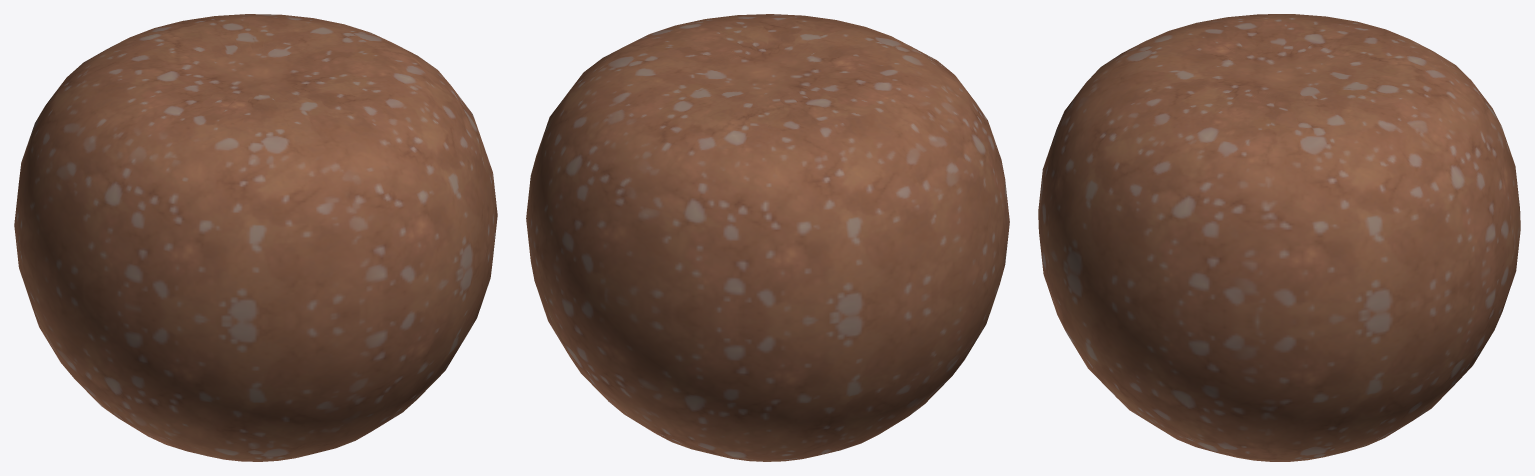
The model's file is BottomPart.glb.
3 views of the same model, side by side, from view 1: azimuth 30°, elevation 25°; view 2: azimuth 150°, elevation 25°; view 3: azimuth 270°, elevation 25° (orthographic).
Visible parts, largest first — view 1: BottomGround; view 2: BottomGround; view 3: BottomGround.
Part boxes in pixels (<box>): BottomGround: <box>14,14,497,461</box>; BottomGround: <box>526,14,1009,461</box>; BottomGround: <box>1038,14,1520,461</box>.
Bounding box in the file's own units: 57.33 × 48.13 × 57.33.
Materials: 1 (1 with a texture image).
